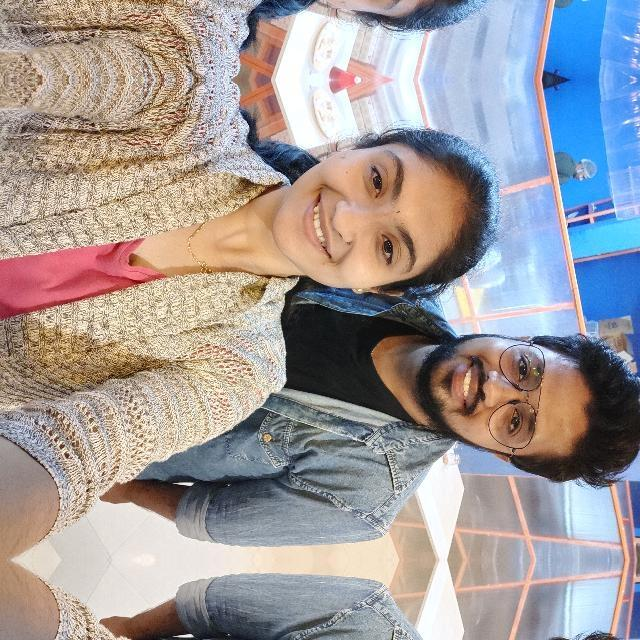person: (227, 85, 435, 411), (33, 209, 251, 511), (227, 0, 435, 75), (33, 609, 251, 640)
